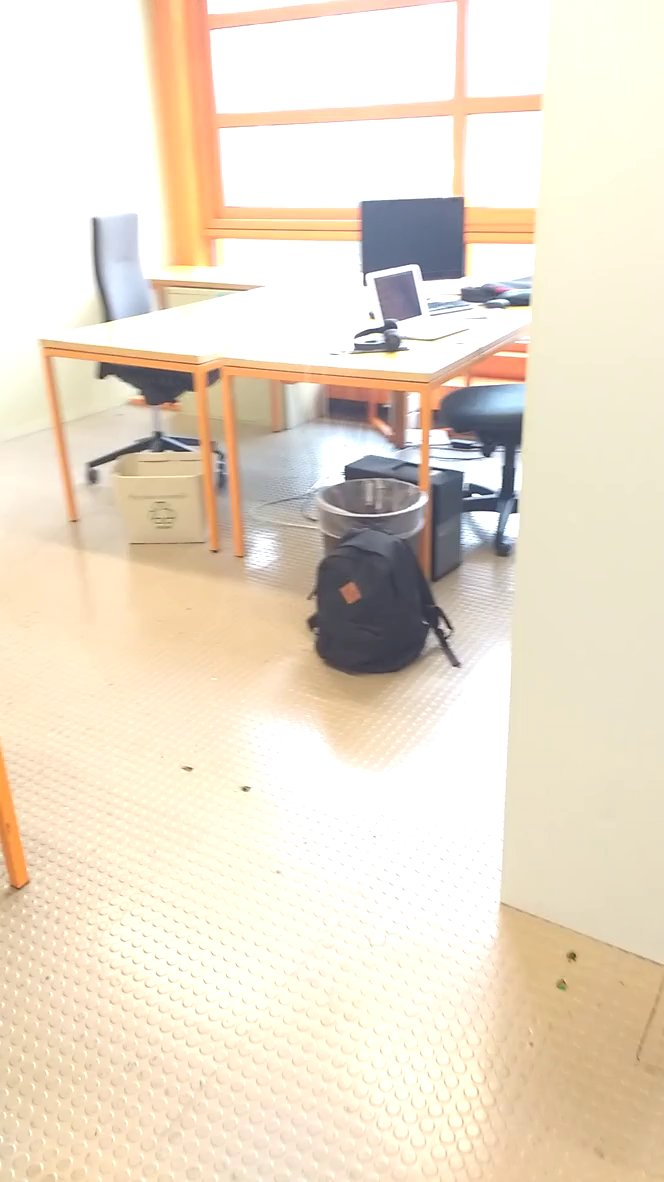bag: (303, 519, 469, 680)
bin: (319, 468, 430, 563)
box: (102, 440, 227, 550)
chair: (74, 196, 230, 483)
laptop: (359, 252, 485, 346)
